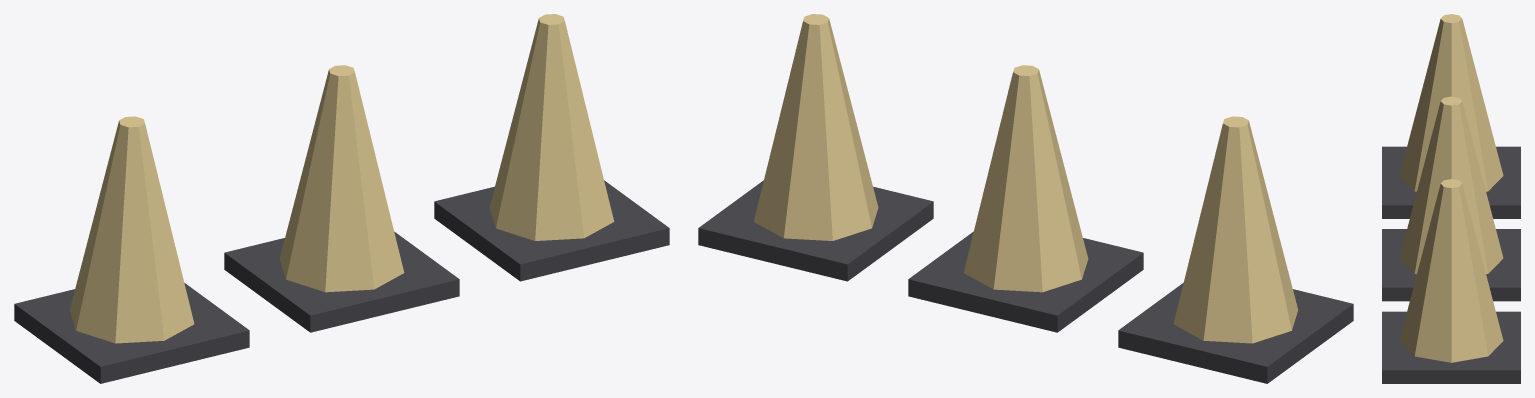
Rendered from bank-vault-heist-kit-traffic-cone-set-29324b4a__25154.glb.
3 renders of one model, left to right at view 1: azimuth 30°, elevation 25°; view 2: azimuth 150°, elevation 25°; view 3: azimuth 270°, elevation 25°, orthographic. The views are drawn at different scales.
Parts seen in each view (by area): view 1: traffic-cone-set; view 2: traffic-cone-set; view 3: traffic-cone-set.
Boxes of the visible parts, bbox=[...] form: traffic-cone-set: bbox=[14, 14, 669, 383]; traffic-cone-set: bbox=[698, 14, 1353, 383]; traffic-cone-set: bbox=[1382, 14, 1520, 383].
Bounding box in the file's own units: 1.22 × 0.435 × 0.3199.
